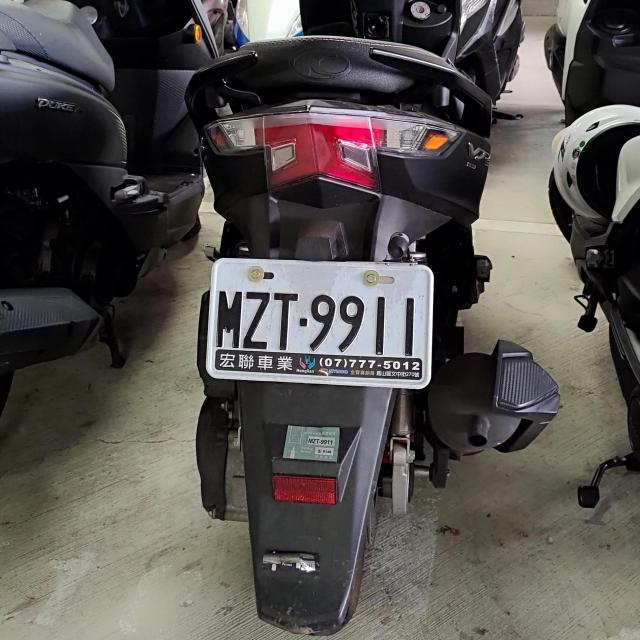W: (205, 257, 436, 376)
